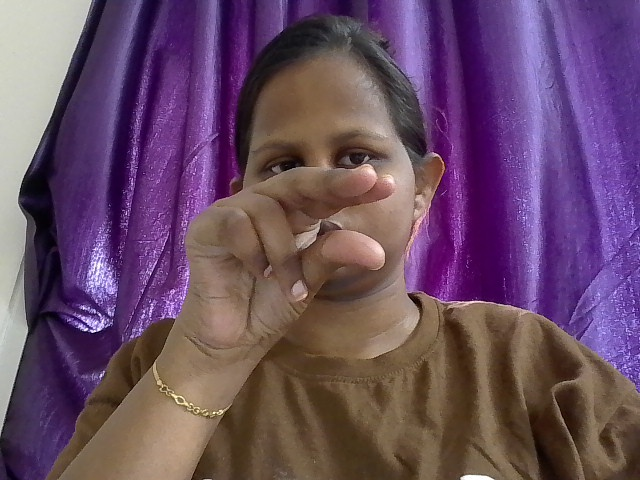NO: (82, 93, 492, 417)
